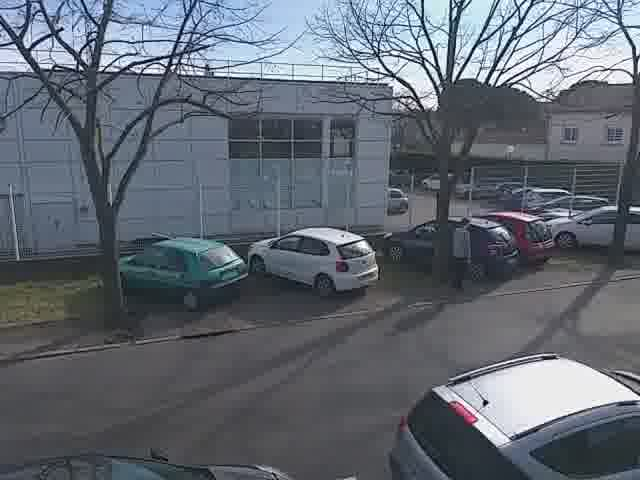persona: (442, 209, 482, 299)
